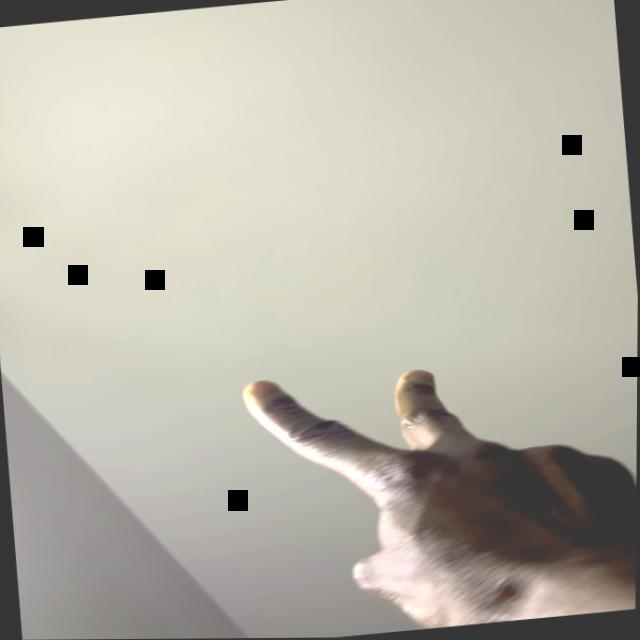Scissors: (238, 342, 638, 639)
